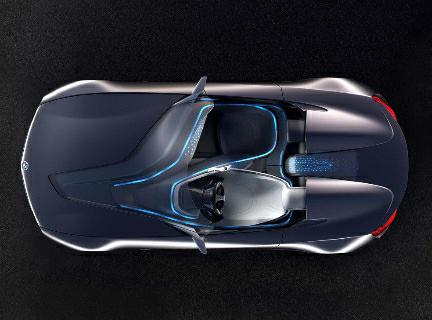宝马-ConnectedDrive: (19, 63, 415, 265)
